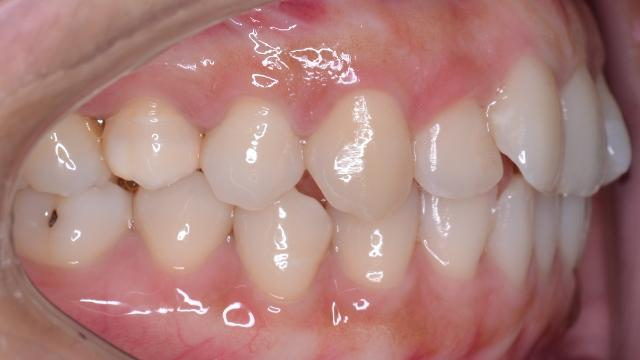canine class II 1/2: (233, 81, 422, 310)
molar class II 1/4: (11, 110, 133, 276)
